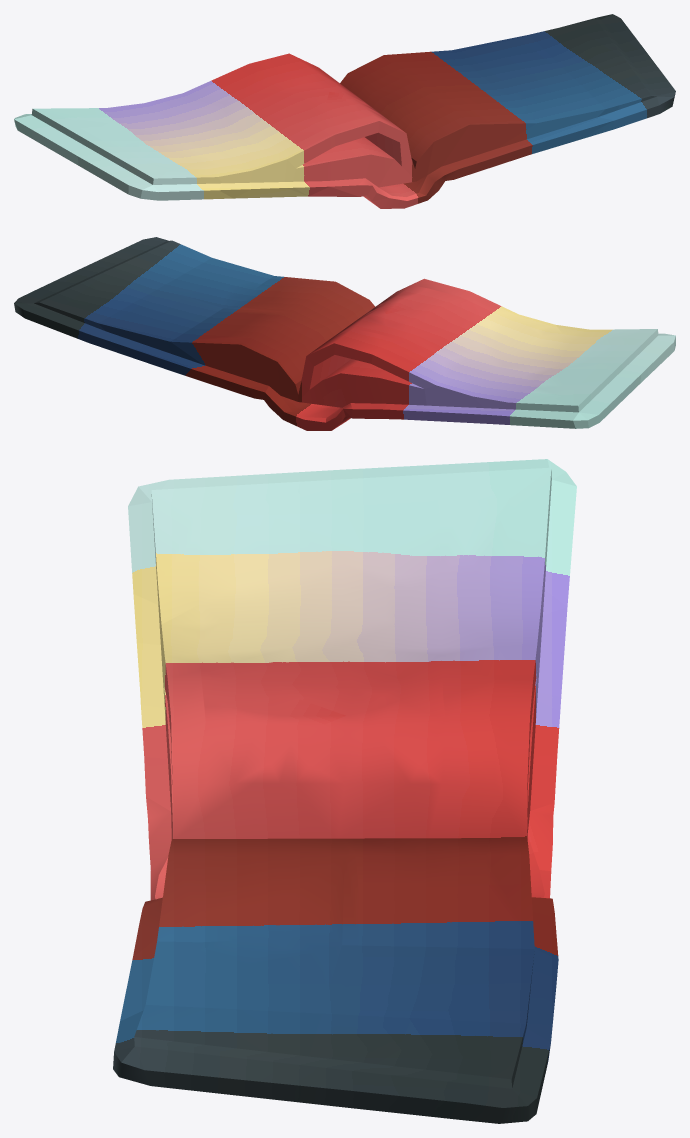
Rendered from Prop_SkyArtBook03_Open.glb.
The picture shows the model from 3 angles, top to bottom: view 1: azimuth 30°, elevation 25°; view 2: azimuth 150°, elevation 25°; view 3: azimuth 270°, elevation 25°; orthographic projection. The views are drawn at different scales.
Parts seen in each view (by area): view 1: Prop_SkyArtBook03_Open; view 2: Prop_SkyArtBook03_Open; view 3: Prop_SkyArtBook03_Open.
Boxes of the visible parts, bbox=[...] form: Prop_SkyArtBook03_Open: bbox=[14, 14, 675, 208]; Prop_SkyArtBook03_Open: bbox=[14, 237, 675, 430]; Prop_SkyArtBook03_Open: bbox=[113, 459, 576, 1123].
Size of the model in its own units: 8.64 by 1.3 by 2.93.
Materials: 1 (1 with a texture image).
